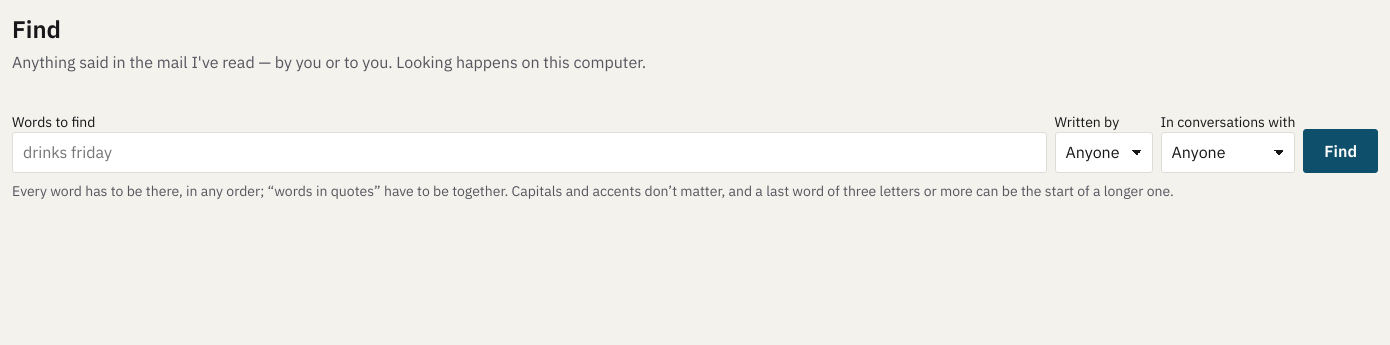
Test case: finding what was said › looks again in the conversations one person is in, and says so
Type "friday" into the search field labelled "Words to find" at (529, 153), box [12,132,1046,174]
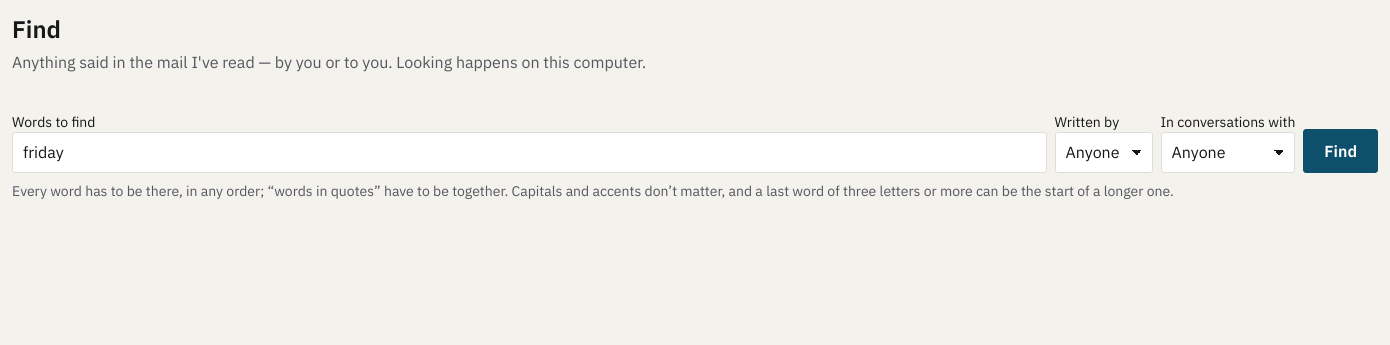
Click the button "Find" at (1341, 152), box [1303,130,1378,174]
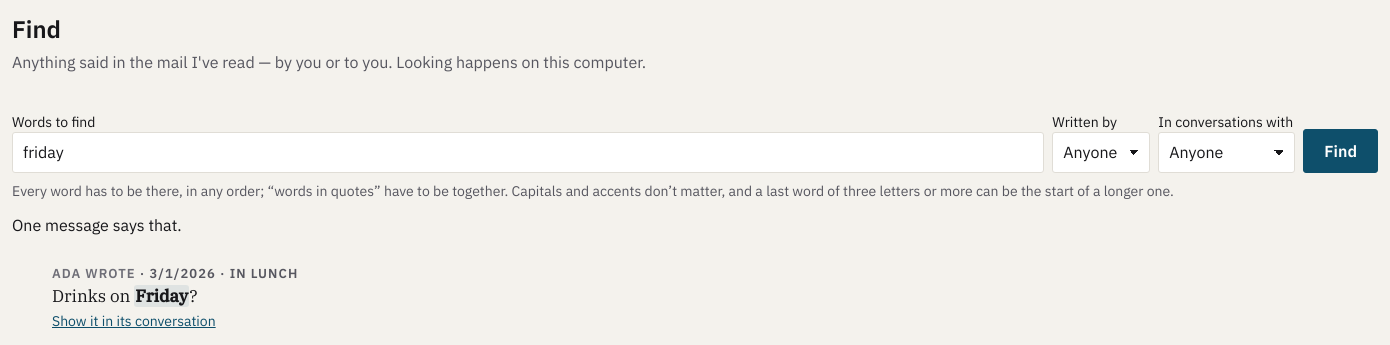
Result: the message reads "One message says that." at [12,215,182,235]
Select "Ada Lovelace" in the dropdown labelled "In conversations with" at (1227, 153), box [1158,132,1295,174]
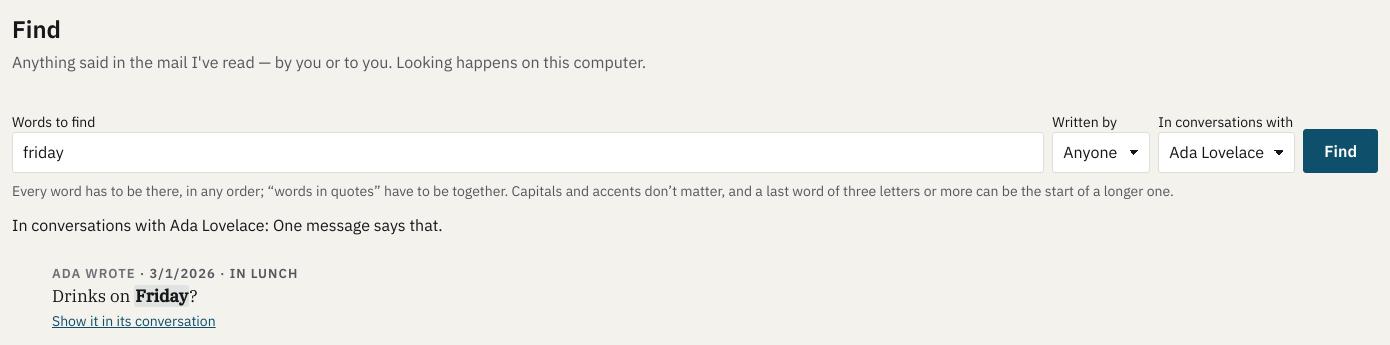
Result: the message reads "In conversations with Ada Lovelace: One message says that." at [12,215,443,235]
